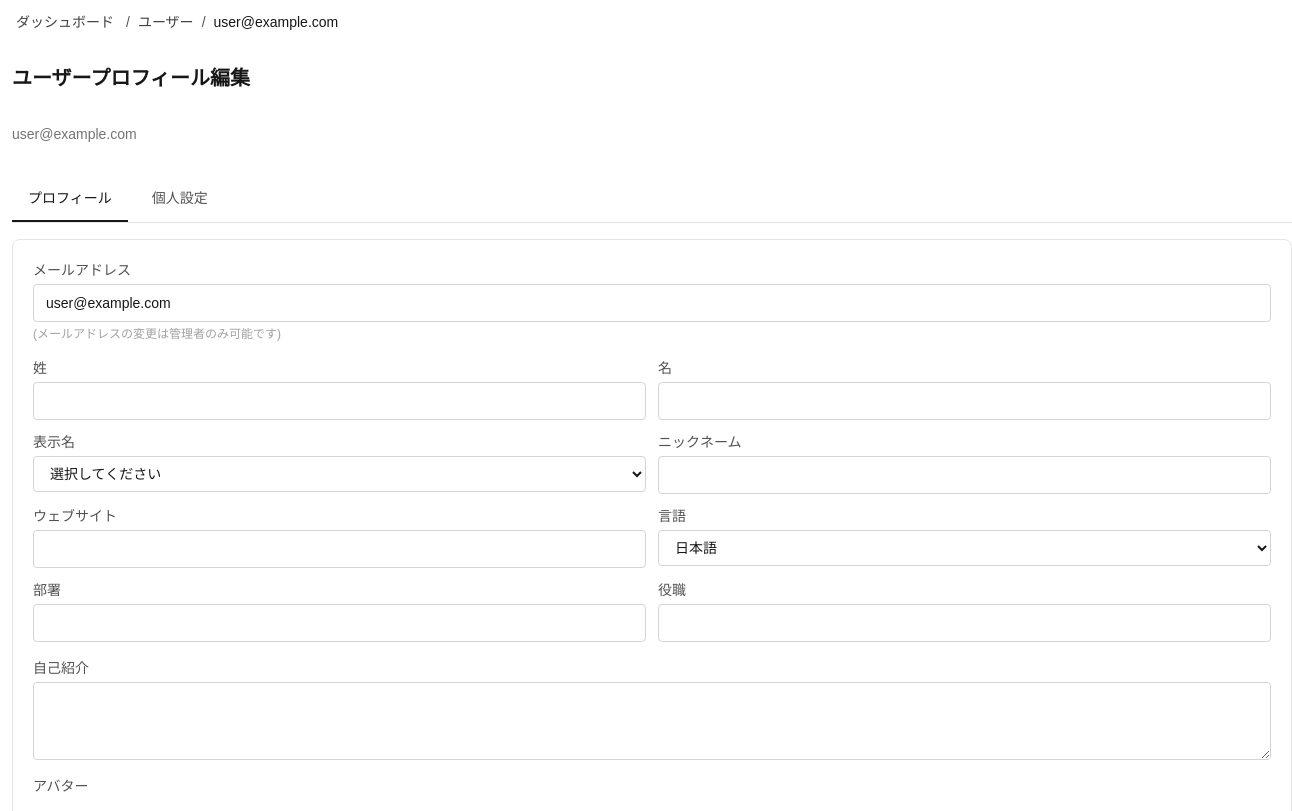
Test: /users/[id]/edit の個人設定タブ(issue #1259) › timezoneが未設定(null)なら「ブラウザに従う(未設定)」が選択されている
Click the button "個人設定": (180, 199) x1=136 y1=176 x2=224 y2=222
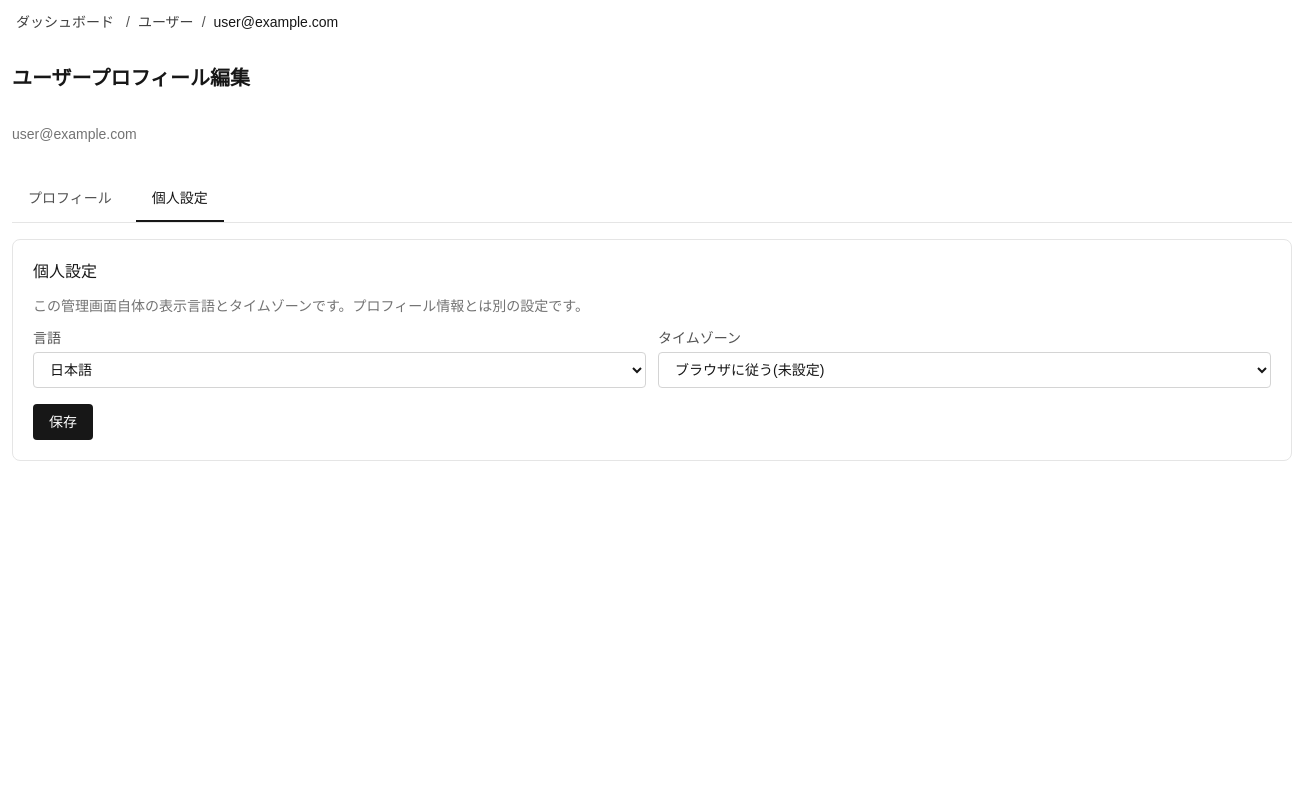
expect the dropdown with test id "timezone-select" shows "ブラウザに従う(未設定)": met, box x1=658 y1=352 x2=1271 y2=388
